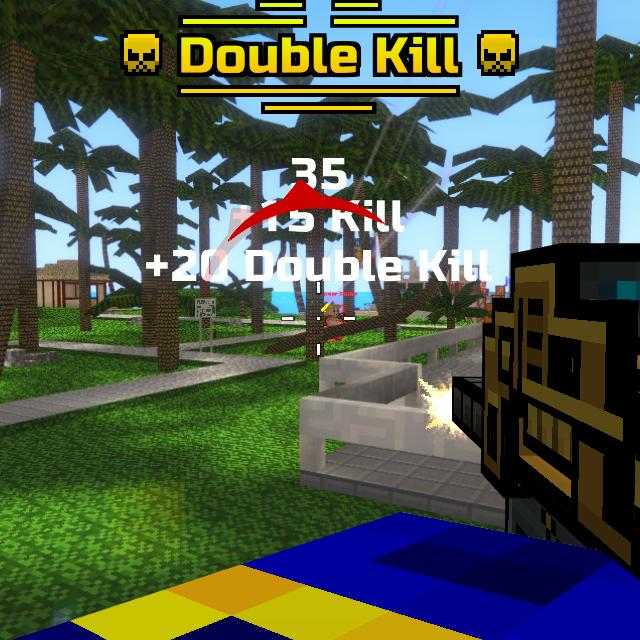Enemy: (327, 302, 344, 330)
